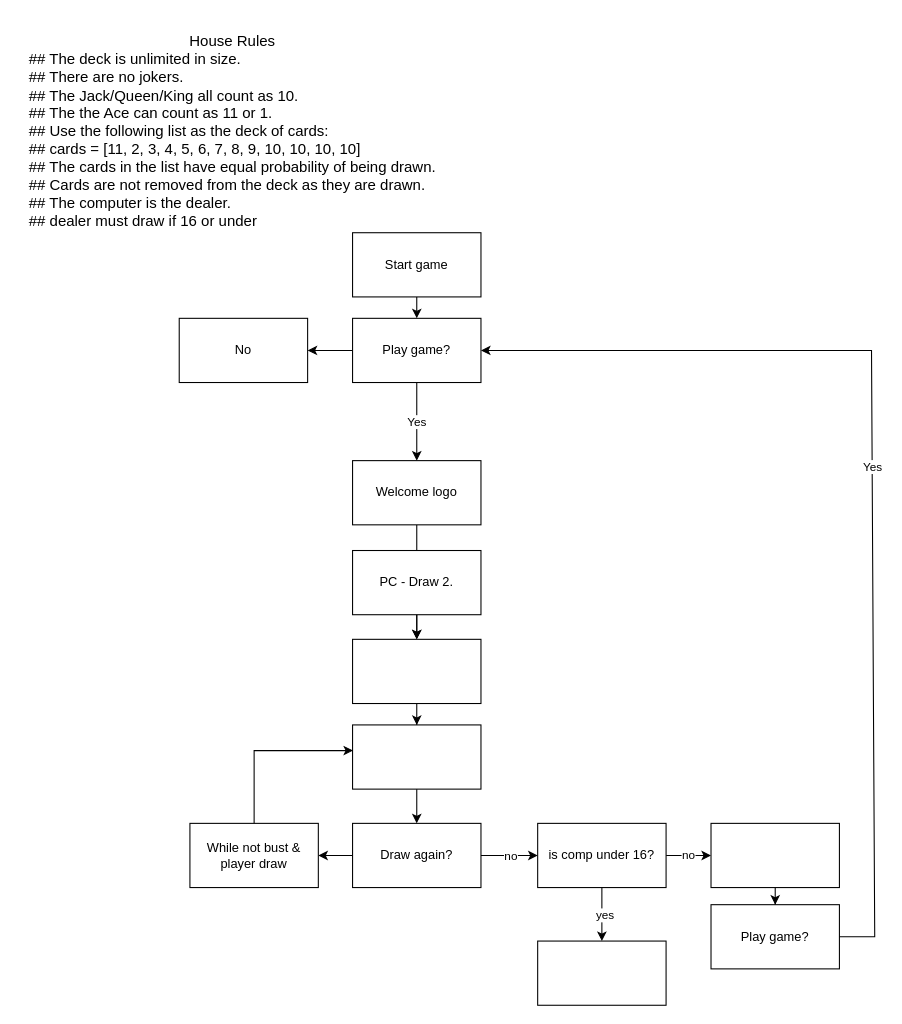
Image size: 902x1024. Some labels were removed from this diagram. The shapes that lost their labels are listed below. From the top down, each one's centre as x and y in pixels, then its label:
[416,671]: Comp draw 2.
[416,756]: Show 1st computer card
[774,855]: Win / Lose
[601,972]: Computer draw
